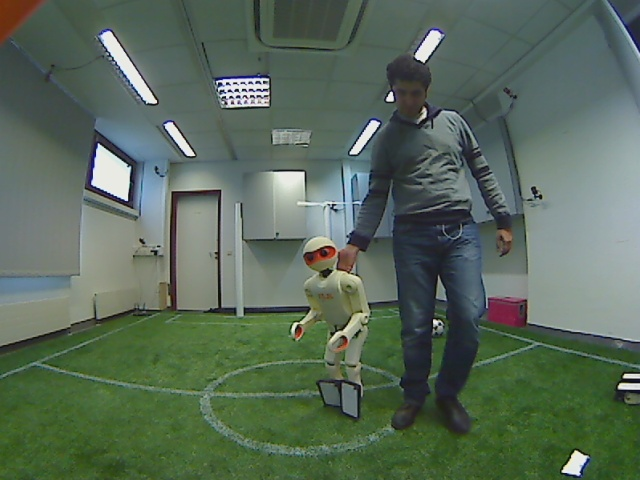ball: (428, 313, 447, 340)
robot: (290, 238, 382, 421)
